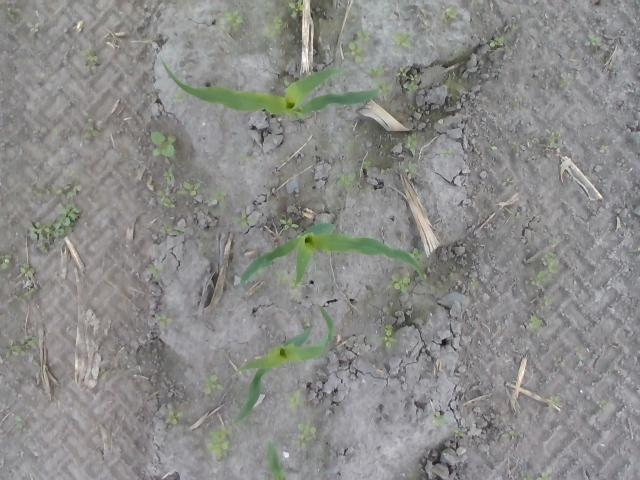Maize: (159, 54, 386, 120), (222, 306, 337, 426), (240, 220, 429, 286), (266, 440, 290, 479)
Weeds: (29, 204, 80, 246), (25, 167, 82, 196), (162, 172, 204, 207), (0, 334, 39, 362), (348, 30, 373, 63), (534, 256, 558, 288), (296, 422, 319, 453), (208, 427, 228, 461), (151, 130, 177, 156), (368, 65, 387, 94), (0, 3, 22, 22), (276, 271, 300, 288), (520, 468, 554, 480), (226, 8, 244, 30), (409, 246, 425, 270), (202, 374, 222, 393), (389, 274, 412, 290), (381, 325, 395, 351), (264, 15, 282, 35), (391, 32, 411, 48), (338, 172, 358, 188), (584, 33, 602, 50), (164, 411, 183, 426), (530, 314, 545, 331), (548, 133, 562, 151), (86, 51, 100, 69), (147, 263, 163, 278), (288, 392, 302, 408), (154, 314, 171, 326), (210, 192, 227, 204), (19, 264, 37, 275), (291, 1, 305, 15), (26, 22, 42, 34), (0, 254, 12, 270), (85, 124, 96, 140), (442, 8, 456, 20), (407, 138, 417, 154), (408, 160, 417, 176), (491, 37, 505, 47), (403, 81, 418, 90), (15, 414, 24, 426), (435, 416, 445, 424), (552, 396, 561, 404), (244, 154, 248, 158)
